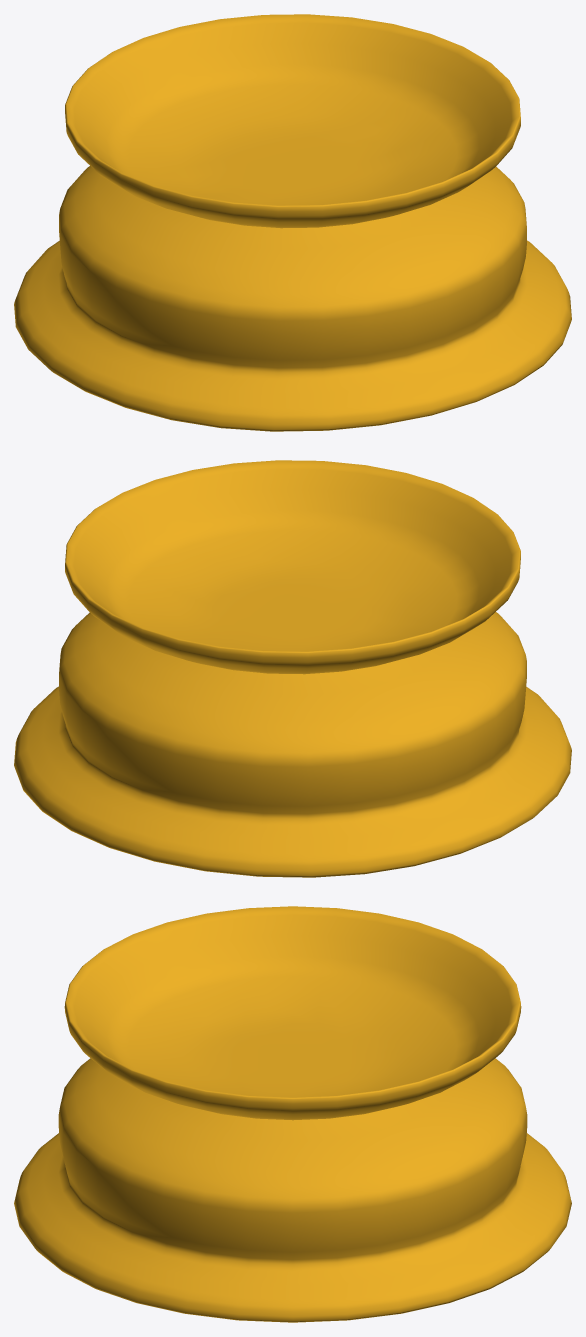
File: CandleBase.fbx
The picture shows the model from 3 angles, top to bottom: view 1: azimuth 30°, elevation 25°; view 2: azimuth 150°, elevation 25°; view 3: azimuth 270°, elevation 25°; orthographic projection.
Parts seen in each view (by area): view 1: CandleBase; view 2: CandleBase; view 3: CandleBase.
Boxes of the visible parts, x1,y1,x2,y2 form: CandleBase: (14,14,571,431); CandleBase: (14,460,571,877); CandleBase: (14,906,571,1322).
Bounding box in the file's own units: 29.62 × 12.02 × 29.62.
